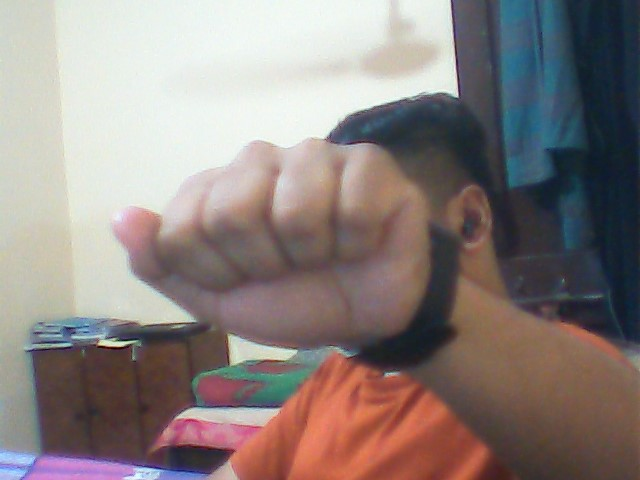Yes: (108, 130, 434, 391)
